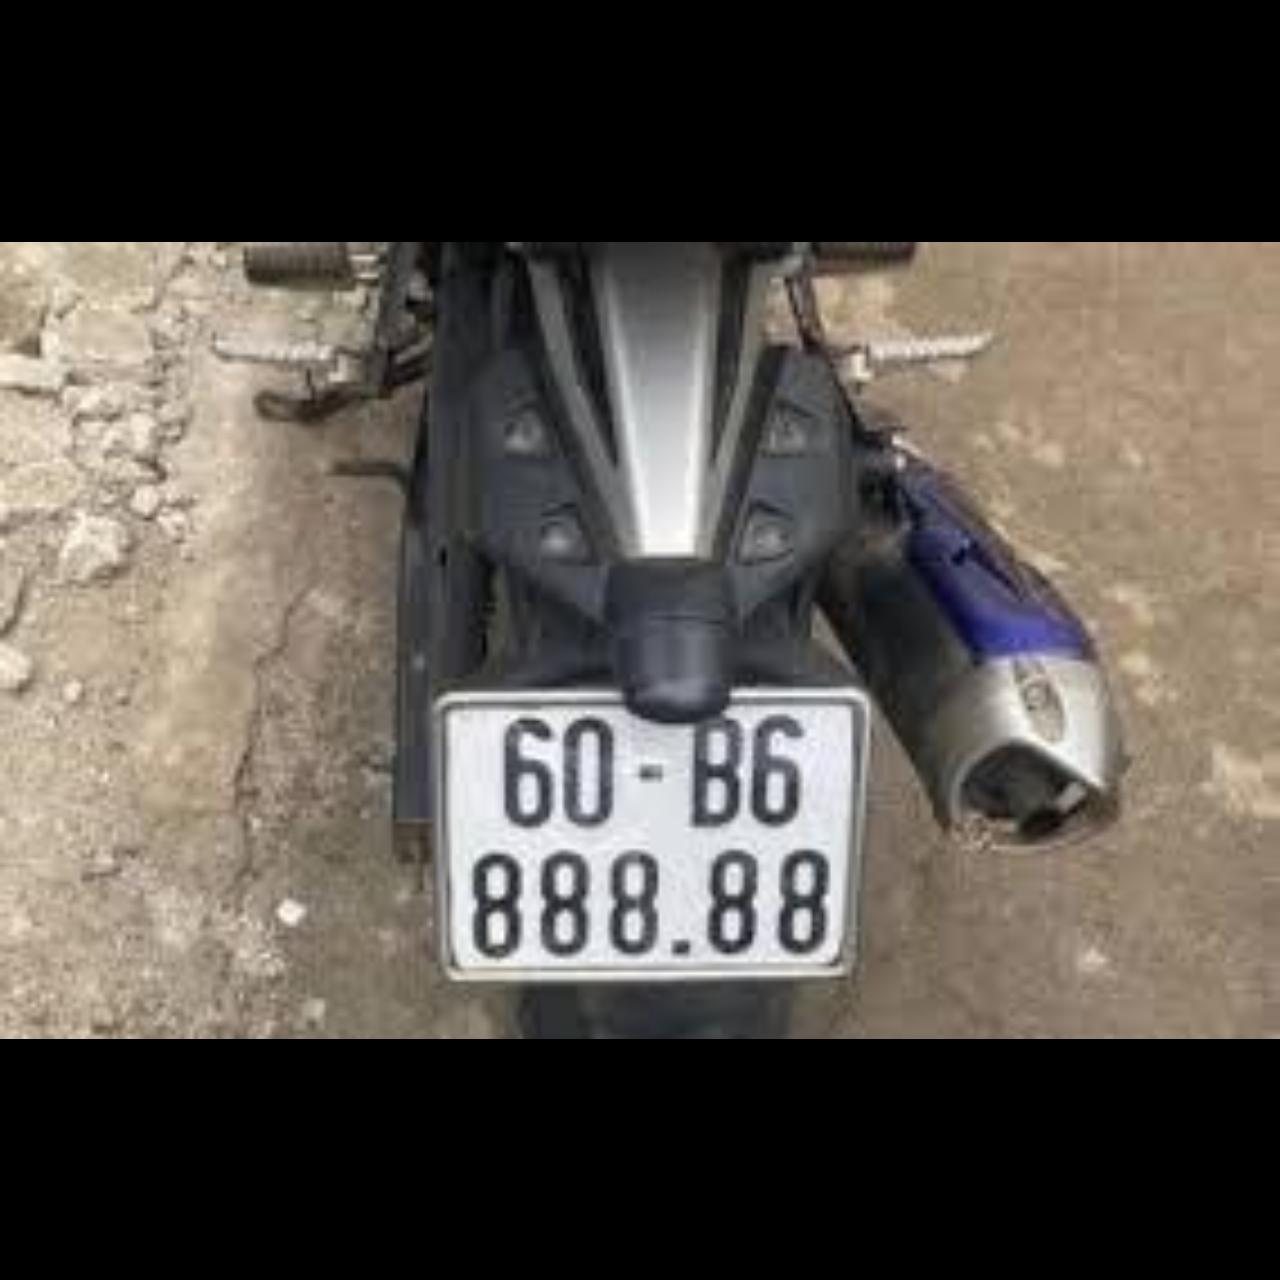bienso: (435, 692, 867, 980)
